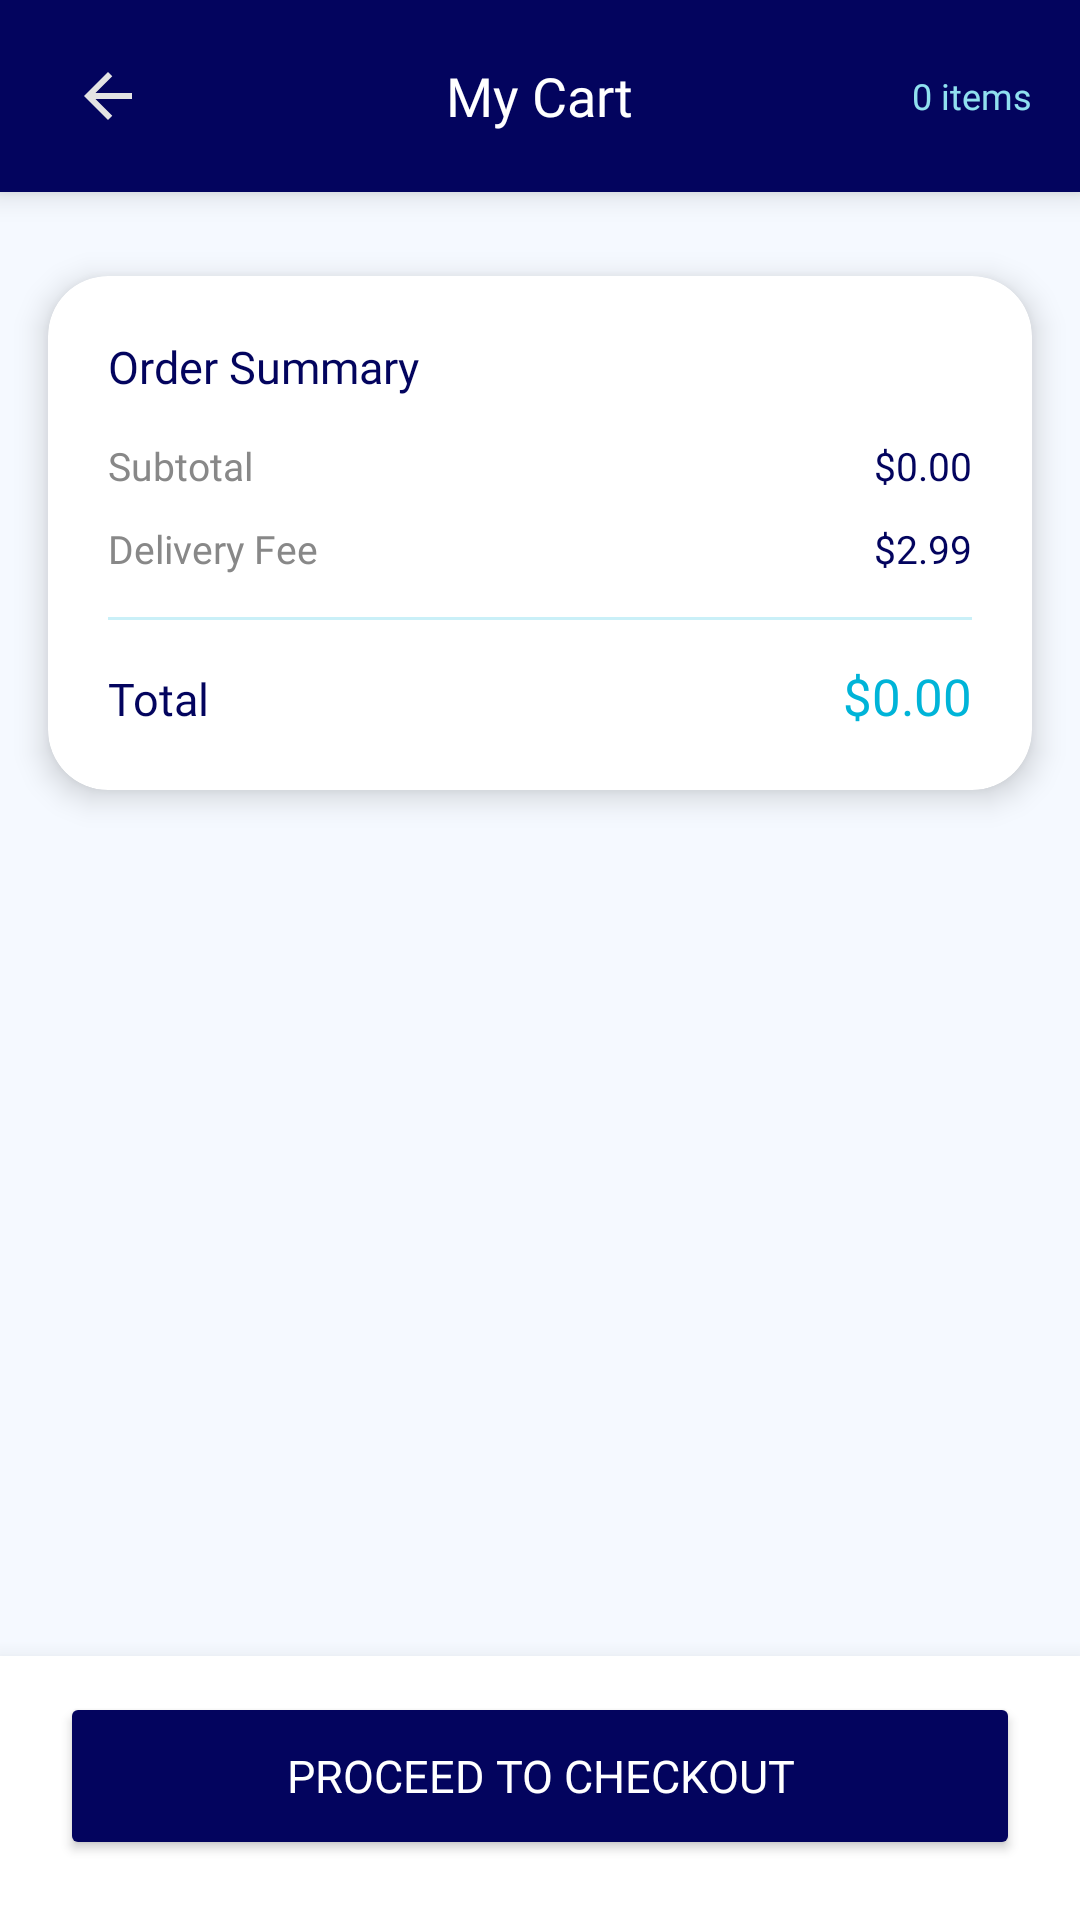

Icon click points for this 1080 × 1920 phone screenshot, format point (x, y):
Back: point (108, 96)
